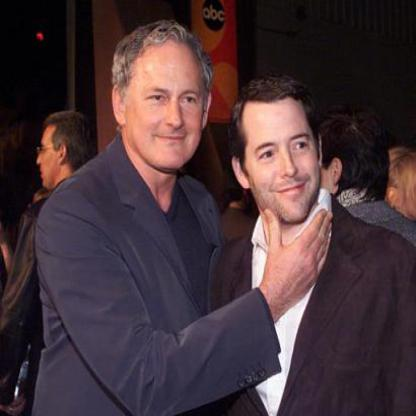face: (125, 25, 214, 172), (244, 83, 321, 229)
